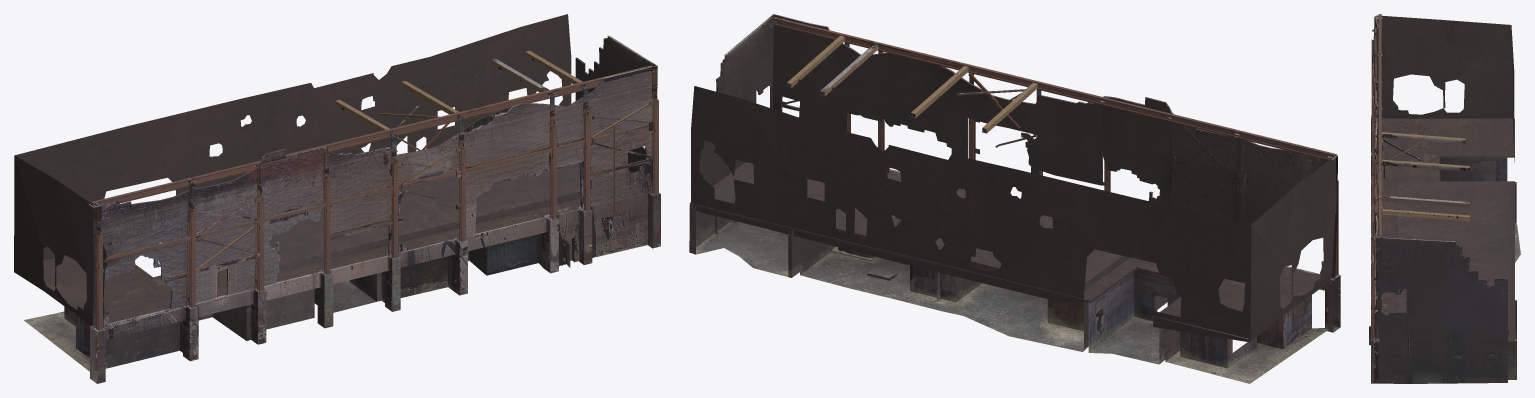
File: MOD_BigWall_Back.fbx
3 renders of one model, left to right at view 1: azimuth 30°, elevation 25°; view 2: azimuth 150°, elevation 25°; view 3: azimuth 270°, elevation 25°, orthographic. The views are drawn at different scales.
Visible parts, largest first — view 1: MOD_BigWall_Back; view 2: MOD_BigWall_Back; view 3: MOD_BigWall_Back.
Part boxes in pixels (box(x1,y1,x2,y2)): MOD_BigWall_Back: box(14, 14, 660, 383); MOD_BigWall_Back: box(689, 14, 1340, 383); MOD_BigWall_Back: box(1369, 14, 1520, 383).
Bounding box in the file's own units: 4429 × 1402 × 1261.
1 material, 1 textured.
